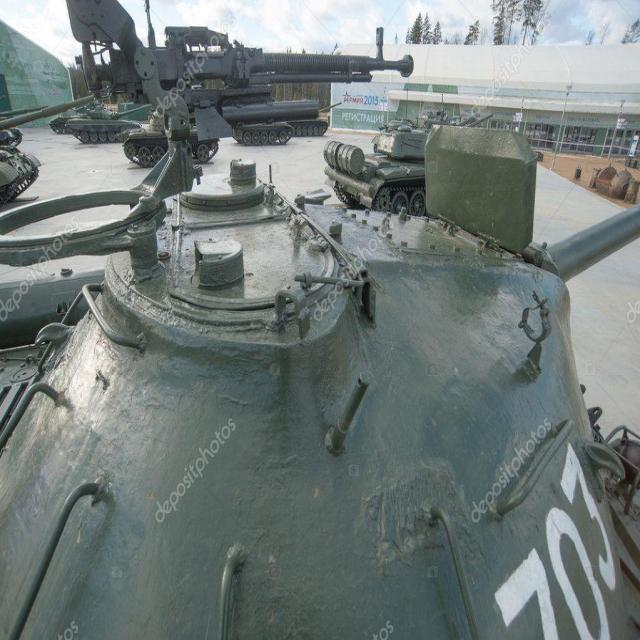MIL_MBT: (14, 169, 624, 598), (56, 106, 141, 148)
